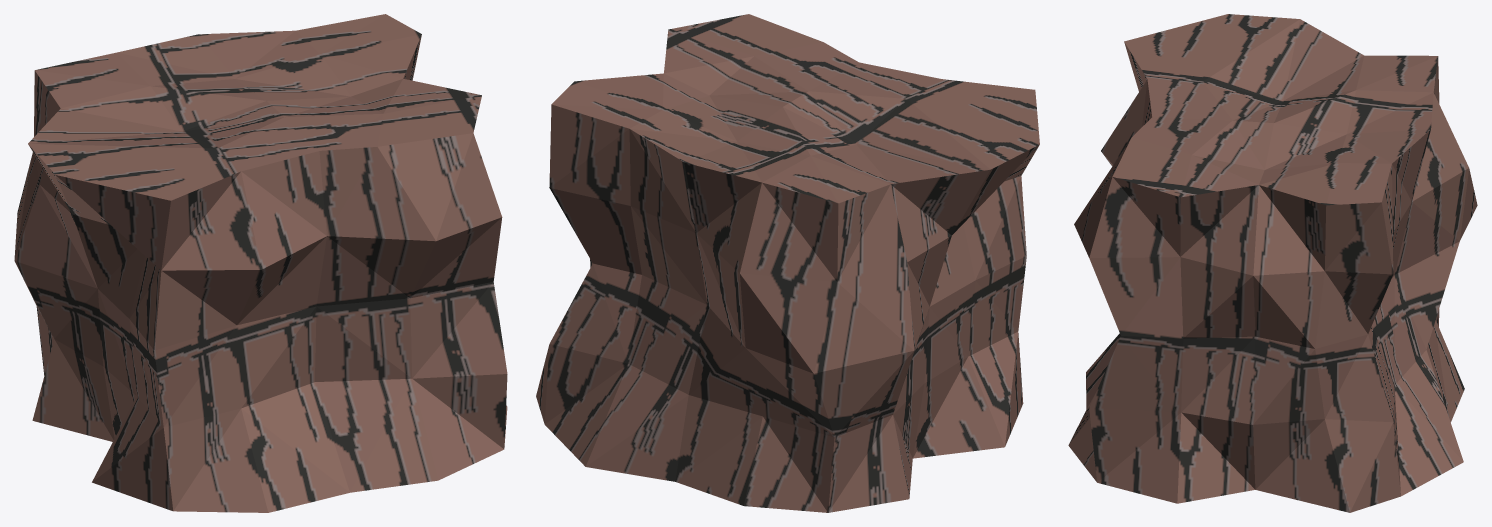
File: Cliff_01.obj
3 views of the same model, side by side, from view 1: azimuth 30°, elevation 25°; view 2: azimuth 150°, elevation 25°; view 3: azimuth 270°, elevation 25° (orthographic). The views are drawn at different scales.
Visible parts, largest first — view 1: Cliff_01_Cube.004; view 2: Cliff_01_Cube.004; view 3: Cliff_01_Cube.004.
Part boxes in pixels (x1,y1,x2,y2): Cliff_01_Cube.004: (14,14,507,512); Cliff_01_Cube.004: (536,14,1039,512); Cliff_01_Cube.004: (1068,14,1477,512).
Size of the model in its own units: 31.7 by 22.47 by 26.96.
